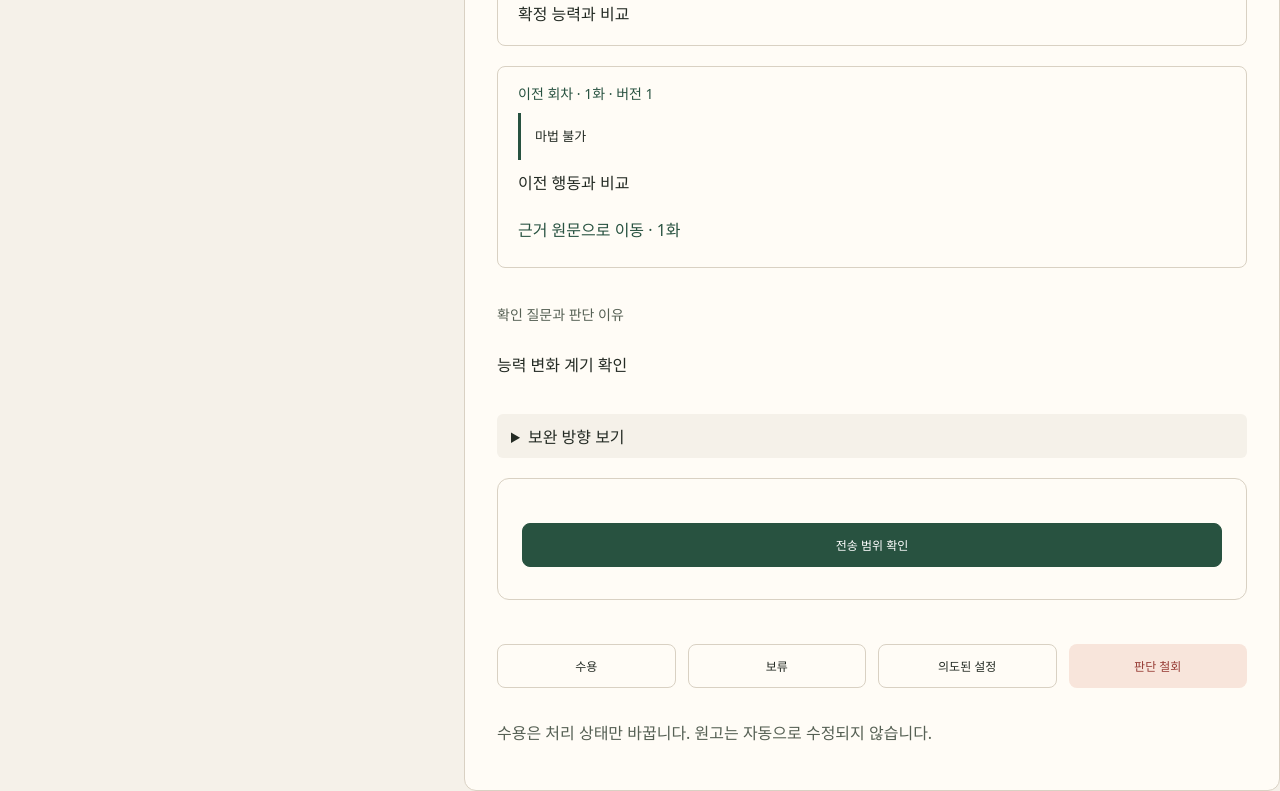
Test case: 다시 제안이 실패해도 기존 제안과 원고를 보존한다 · 서버에 연결하지 못했습니다.
This screenshot has width=1280, height=791.
(page scrolled)
Click the button "전송 범위 확인": (872, 545) [522,523,1222,567]
(page scrolled)
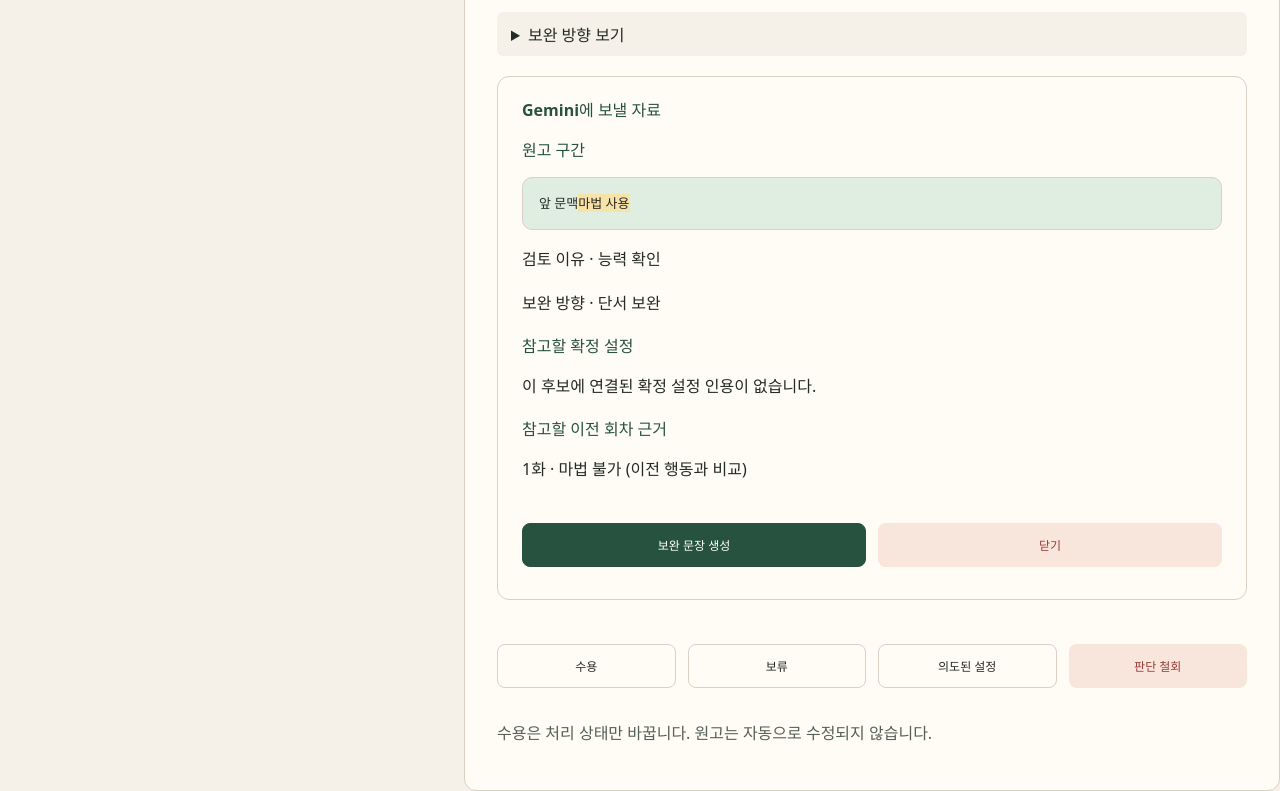
Check: the text "앞 문맥" is shown, box [539,194,578,212]
Check: the text "1화 · 마법 불가 (이전 행동과 비교)" is shown, box [522,458,747,480]
Click the button "보완 문장 생성": (694, 545) [522,523,866,567]
(page scrolled)
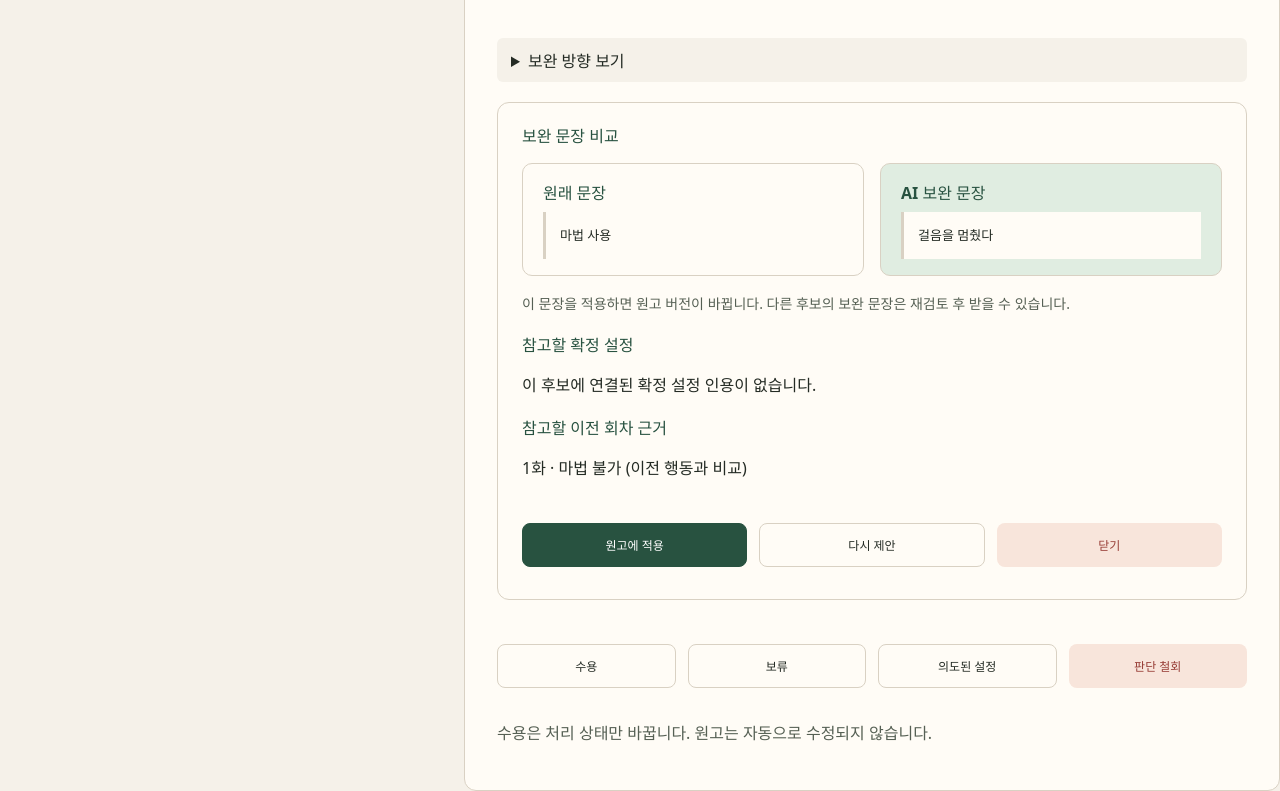
Check: the text "이 문장을 적용하면 원고 버전이 바뀝니다. 다른 후보의 보완 문장은 재검토 후 받을 수 있습니다." is shown, box [522,294,1070,314]
Click the button "다시 제안": (872, 545) [759,523,985,567]
(page scrolled)
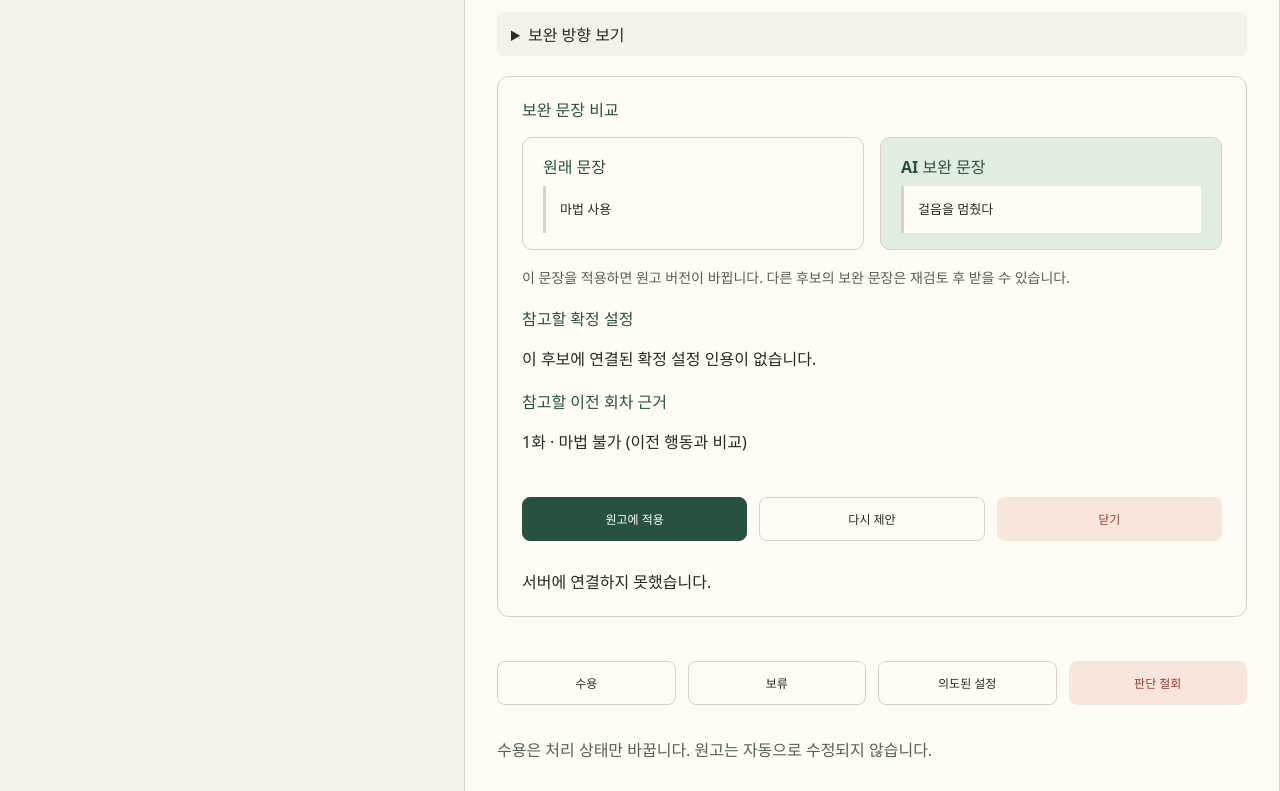
Check: the text "걸음을 멈췄다" is shown, box [901,186,1201,234]
Check: the text "서버에 연결하지 못했습니다." is shown, box [522,571,711,593]
Click the button "닫기": (1109, 519) [997,497,1222,541]
(page scrolled)
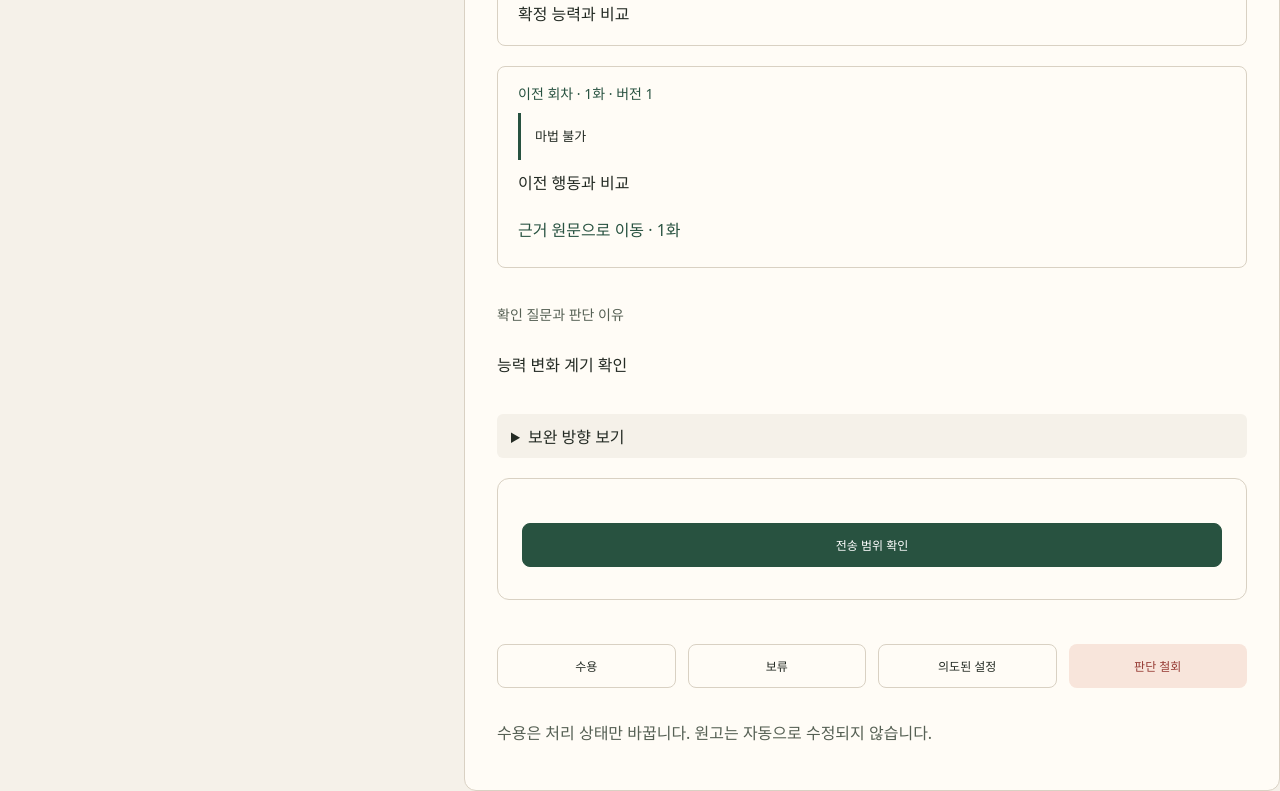
Check: the button "원고에 적용" is gone
